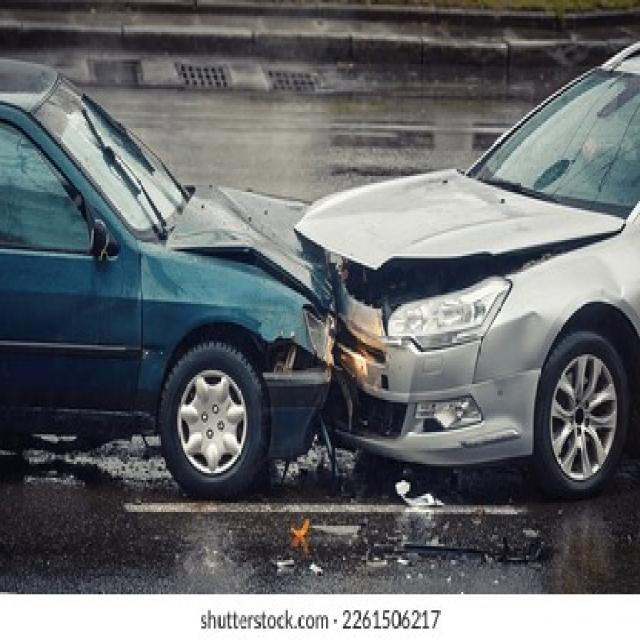Accident: (2, 52, 639, 534)
